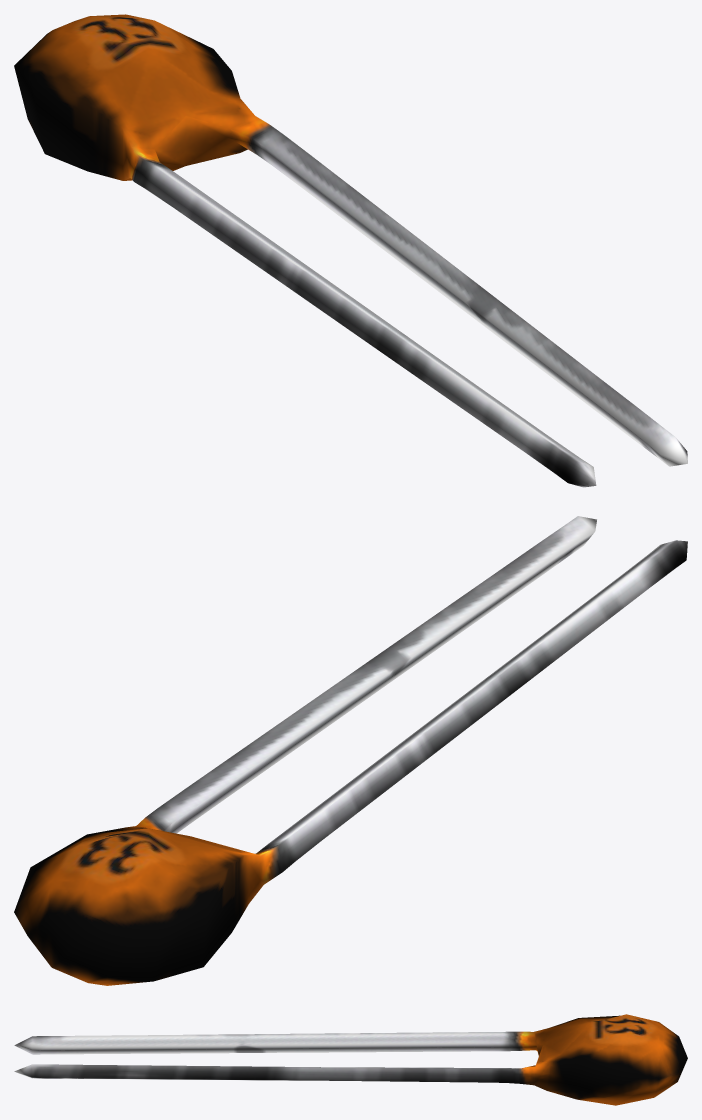
File: 33pfCapacitor.obj
3 renders of one model, top to bottom at view 1: azimuth 30°, elevation 25°; view 2: azimuth 150°, elevation 25°; view 3: azimuth 270°, elevation 25°, orthographic. The views are drawn at different scales.
Parts seen in each view (by area): view 1: Volume97; view 2: Volume97; view 3: Volume97.
Part boxes in pixels (x1,y1,x2,y2): Volume97: (14, 14, 687, 487); Volume97: (14, 516, 687, 985); Volume97: (14, 1014, 687, 1105).
Bounding box in the file's own units: 74.65 × 50.14 × 416.
Materials: 1 (1 with a texture image).
